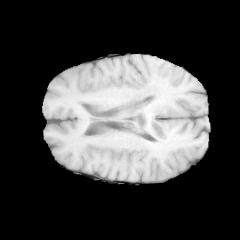glioma: (122, 83, 169, 140)
